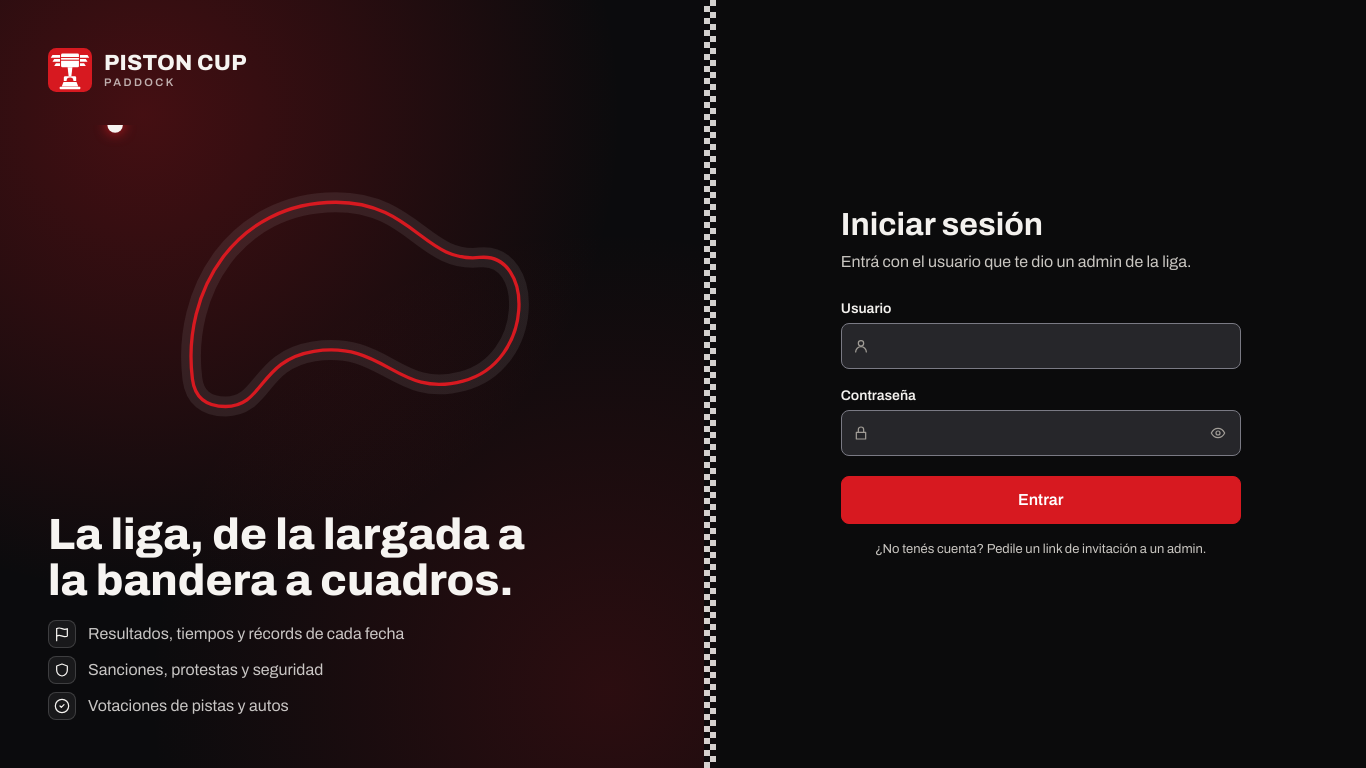
Test: App › shows the championships after a correct login
Type "santi" into the field labelled "Usuario" at (1041, 346), box [841,323,1241,369]
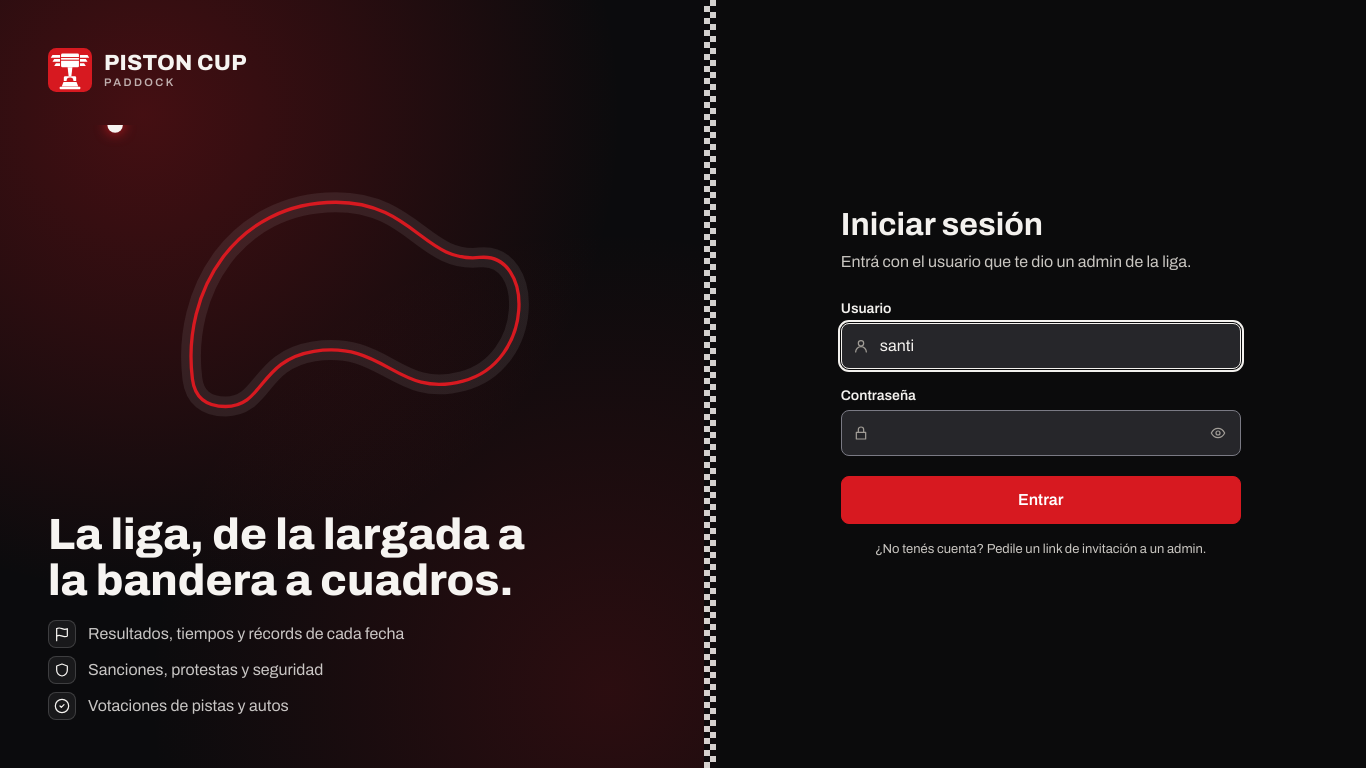
Type "secret-pass" into the password field labelled "Contraseña" at (1041, 433), box [841,410,1241,456]
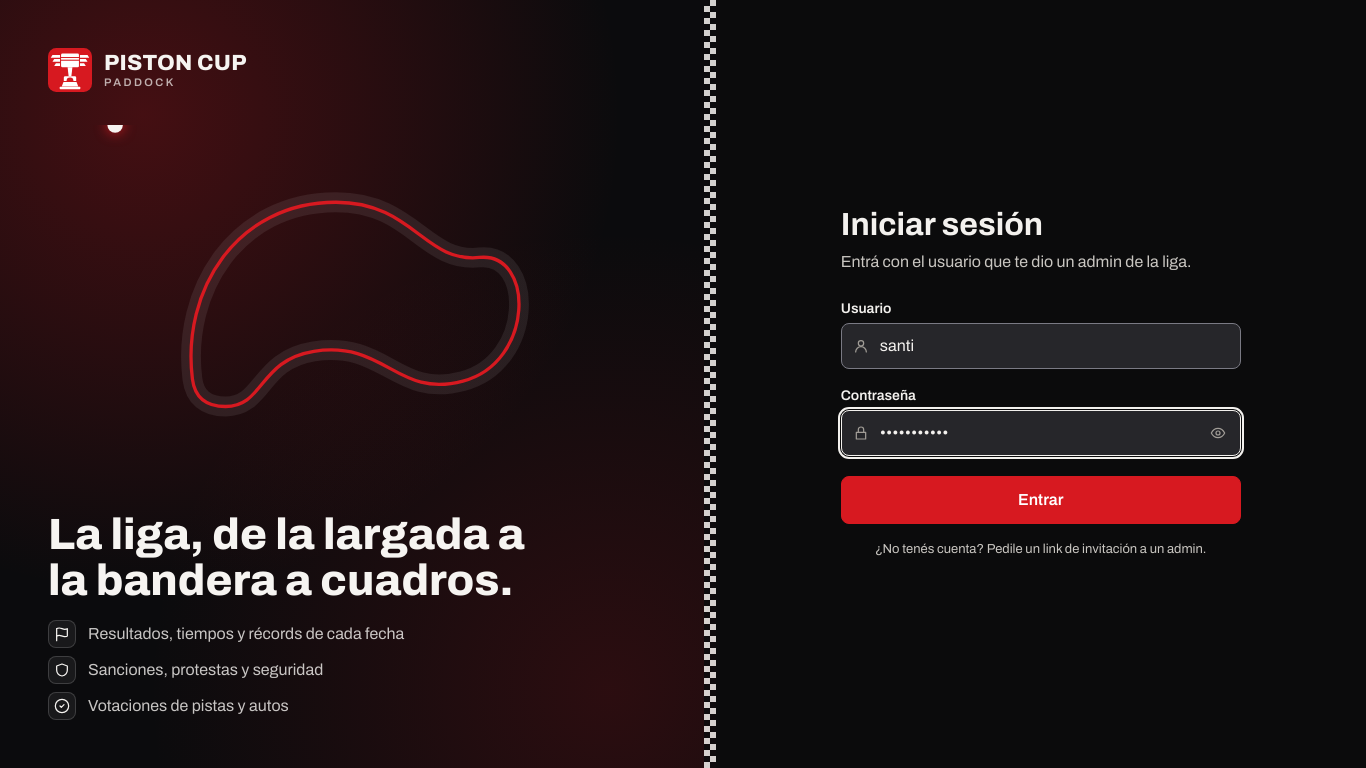
Click the button "Entrar" at (1041, 500), box [841,476,1241,524]
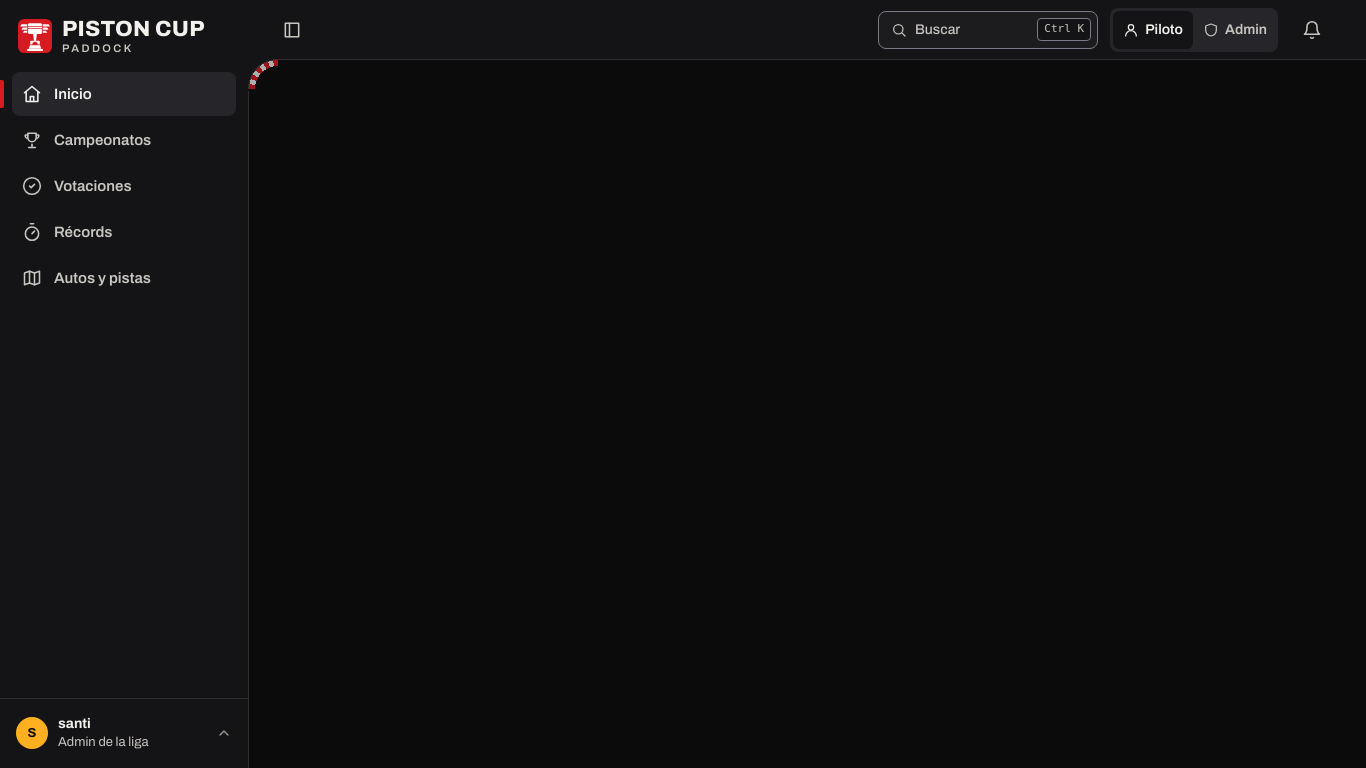
Expected: the link "Campeonatos" is shown, [22,130,151,150]
